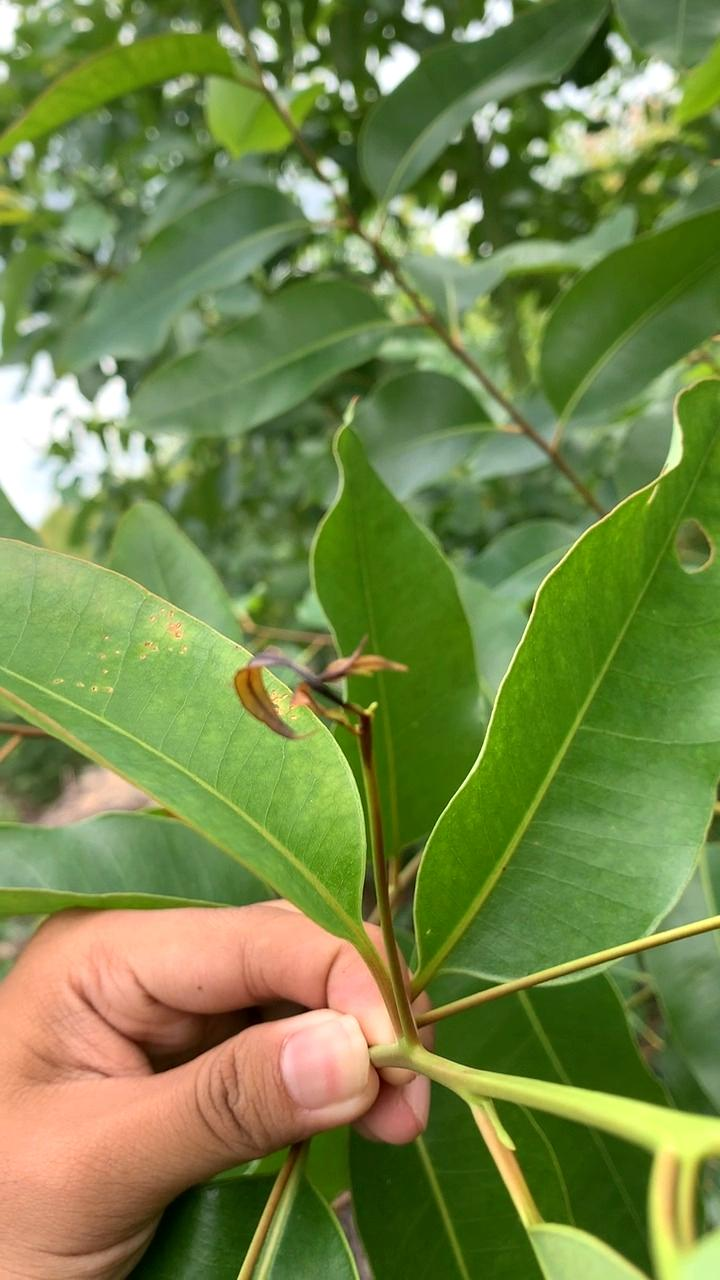Helopeltis-Withered Sprout: (223, 620, 416, 768)
